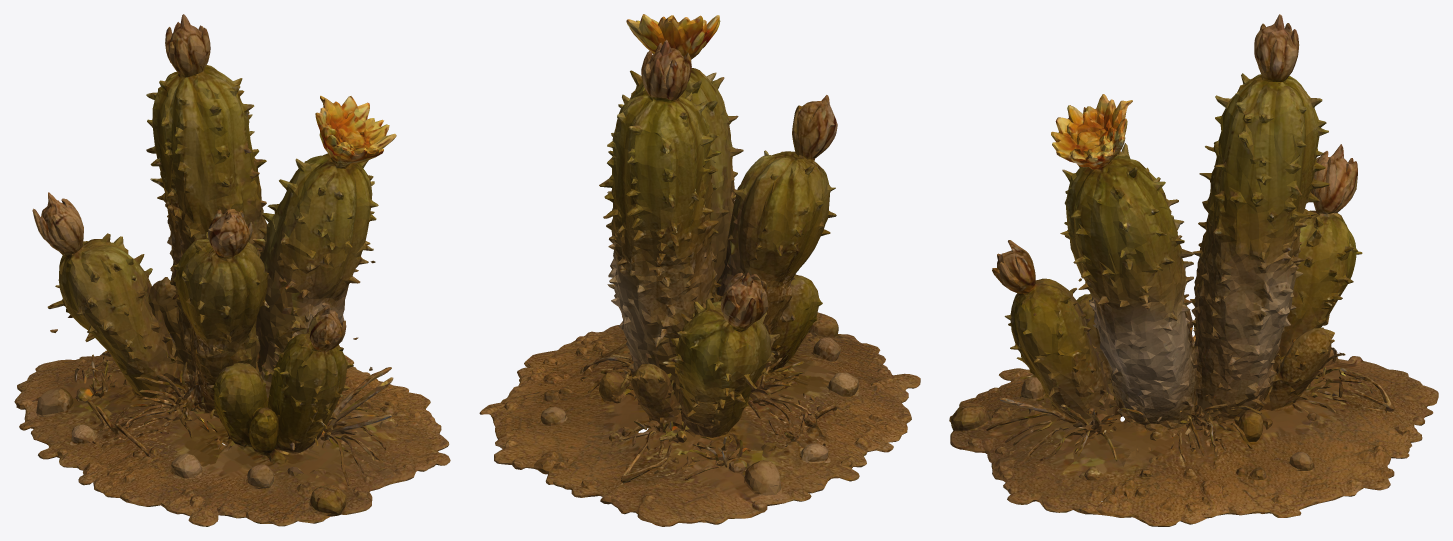
The model's file is desert-cactus-bush-2.glb.
3 renders of one model, left to right at view 1: azimuth 30°, elevation 25°; view 2: azimuth 150°, elevation 25°; view 3: azimuth 270°, elevation 25°, orthographic. The views are drawn at different scales.
Parts seen in each view (by area): view 1: textured_mesh.obj; view 2: textured_mesh.obj; view 3: textured_mesh.obj.
Boxes of the visible parts, x1,y1,x2,y2 form: textured_mesh.obj: [14, 14, 450, 526]; textured_mesh.obj: [479, 14, 920, 526]; textured_mesh.obj: [949, 14, 1438, 526].
Size of the model in its own units: 1.75 by 1.88 by 1.99.
1 material, 1 textured.
